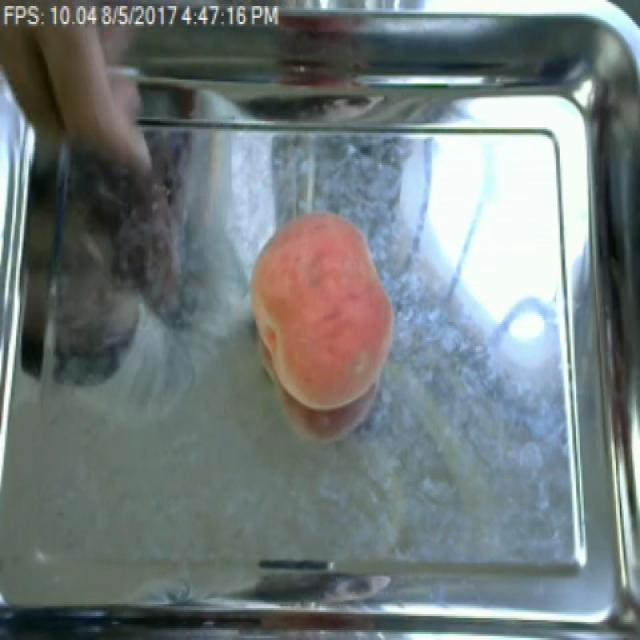Fruit: (240, 203, 401, 417)
